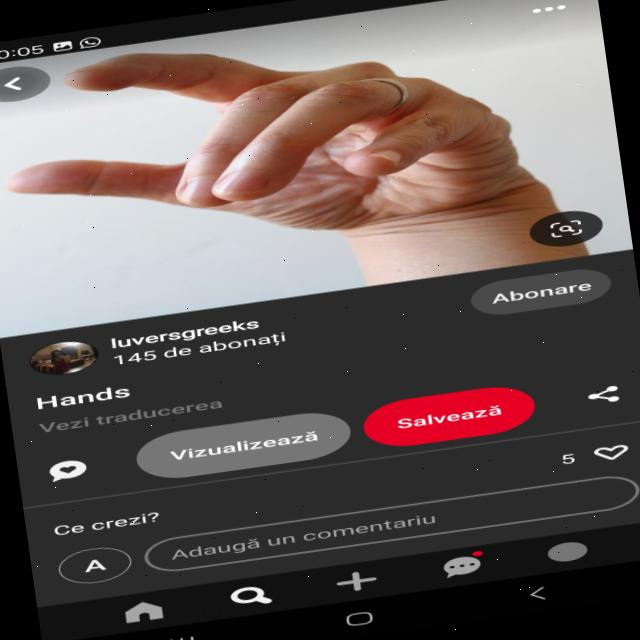hands: (0, 0, 584, 293)
